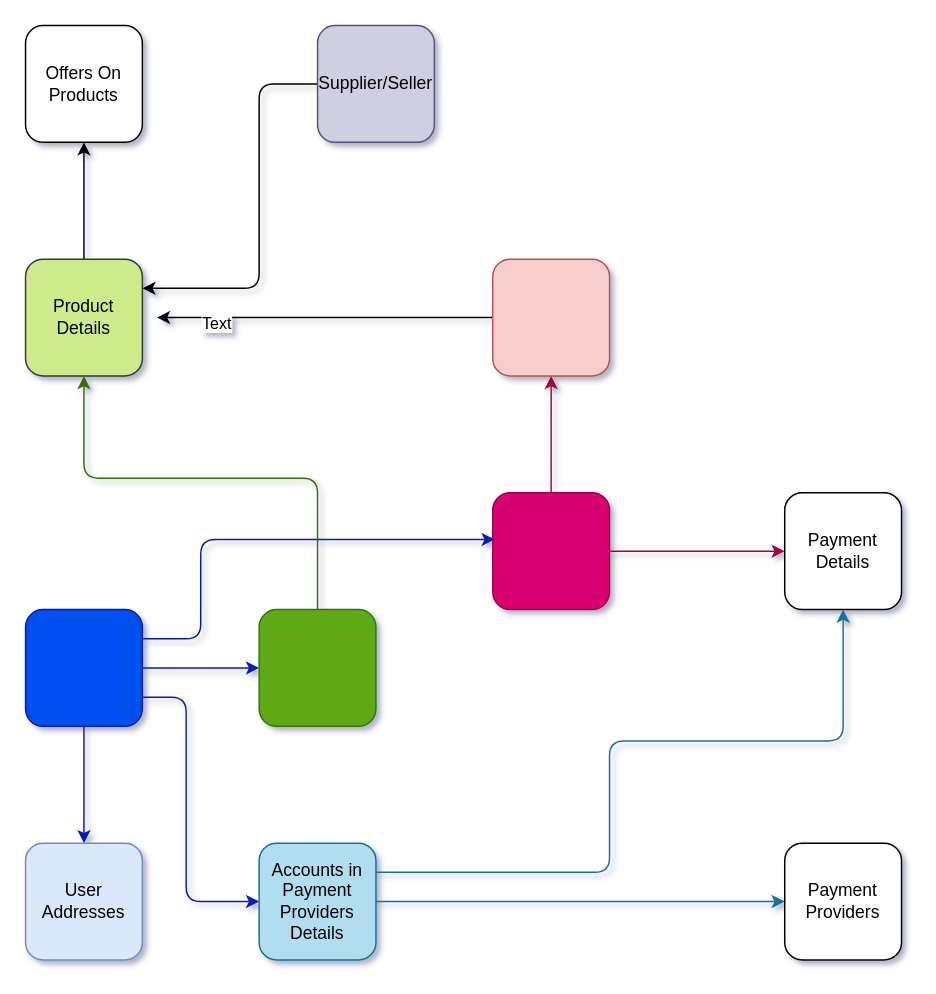
The diagram is 936 pixels wide and 994 high, and some of its shapes have lost their labels. Each missing label, with the box of its shape:
Cart: (258, 608, 376, 726)
Order Items: (491, 258, 610, 376)
Orders: (491, 491, 610, 610)
User: (24, 608, 142, 726)
